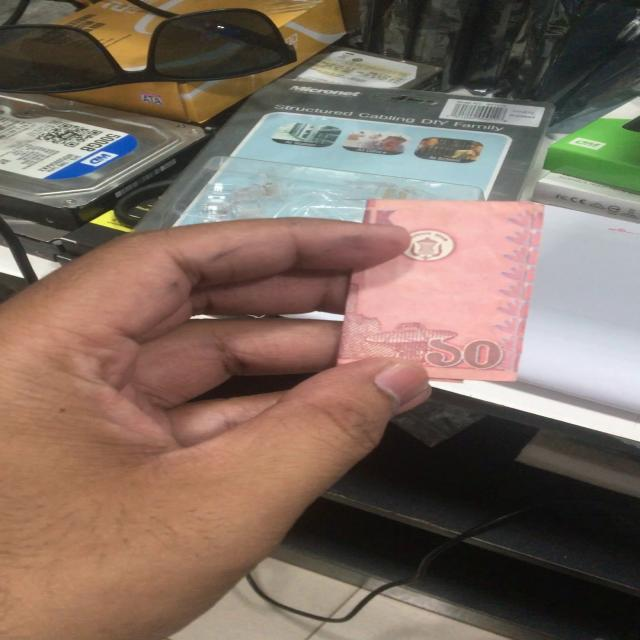Taka: (376, 194, 548, 375)
